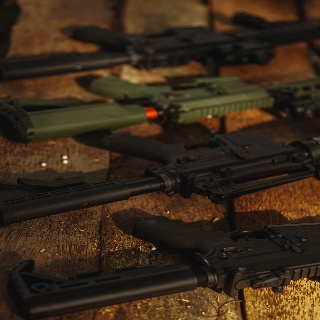rifle: (1, 215, 320, 320), (1, 127, 320, 228), (1, 72, 320, 145), (1, 12, 320, 82)
